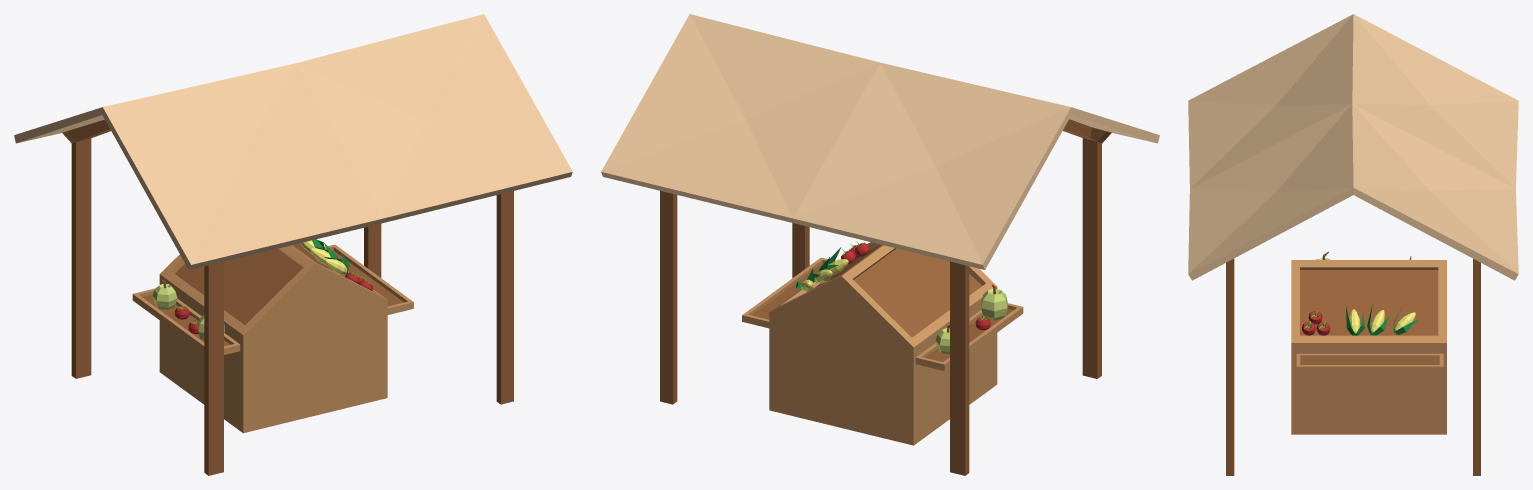
Rendered from Stand_Orange.fbx.
3 views of the same model, side by side, from view 1: azimuth 30°, elevation 25°; view 2: azimuth 150°, elevation 25°; view 3: azimuth 270°, elevation 25° (orthographic). The views are drawn at different scales.
Visible parts, largest first — view 1: Stand_Orange; view 2: Stand_Orange; view 3: Stand_Orange.
Part boxes in pixels (x1,y1,x2,y2): Stand_Orange: (14, 14, 572, 475); Stand_Orange: (601, 14, 1159, 475); Stand_Orange: (1188, 14, 1518, 475).
Size of the model in its own units: 3.55 by 2.91 by 2.85.
